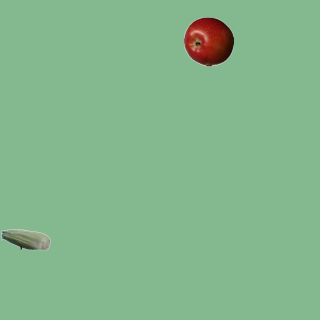Apple Braeburn: (183, 16, 233, 66)
Corn Husk: (0, 214, 50, 264)
